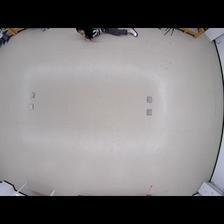fall: (76, 25, 138, 39)
